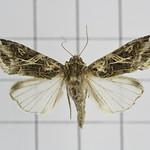Spodoptera litura: (1, 24, 150, 129)
